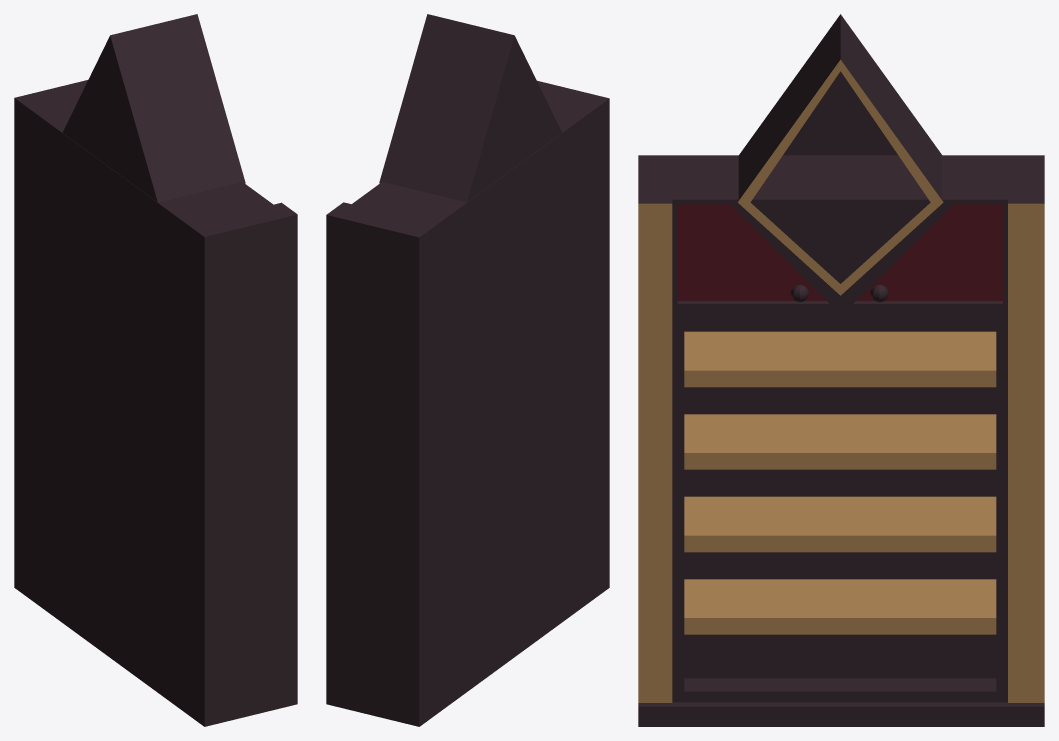
File: LCestantedelivros1.fbx
3 renders of one model, left to right at view 1: azimuth 30°, elevation 25°; view 2: azimuth 150°, elevation 25°; view 3: azimuth 270°, elevation 25°, orthographic. The views are drawn at different scales.
Parts seen in each view (by area): view 1: Cube.060_Cube.010; view 2: Cube.060_Cube.010; view 3: Cube.060_Cube.010.
Part boxes in pixels (x1,y1,x2,y2): Cube.060_Cube.010: [14, 14, 297, 726]; Cube.060_Cube.010: [326, 14, 609, 726]; Cube.060_Cube.010: [638, 14, 1044, 726].
Bounding box in the file's own units: 158 × 1007 × 558.
